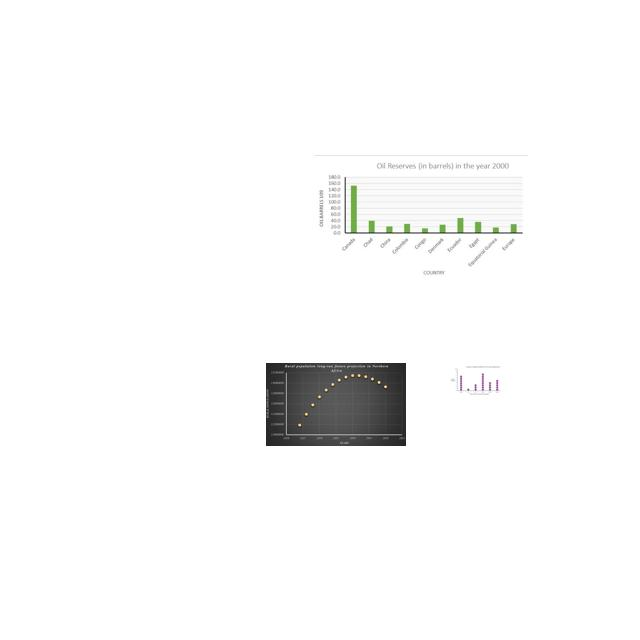Graph: (314, 155, 528, 282), (266, 363, 406, 446), (449, 365, 502, 396)
